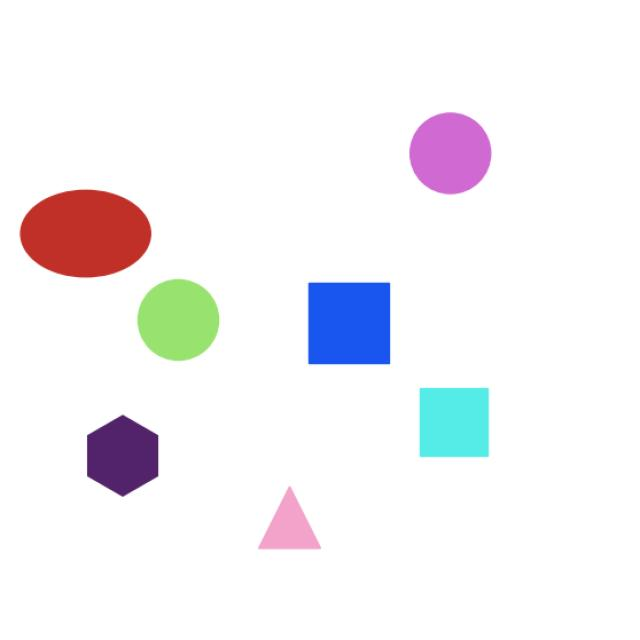Circle: (386, 109, 509, 213), (129, 272, 232, 369)
Hexagon: (69, 406, 192, 514)
Oval: (17, 190, 159, 279)
Triangle: (234, 464, 361, 574)
square: (291, 269, 419, 382), (411, 364, 512, 478)
